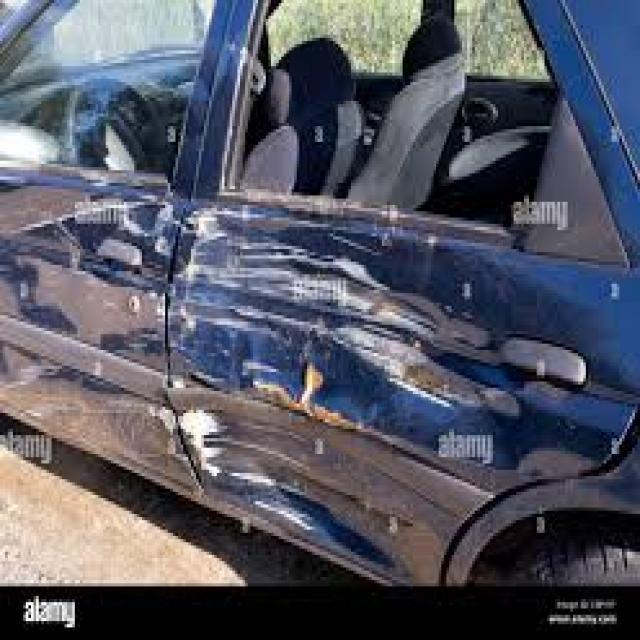damaged-door: (180, 0, 640, 566)
